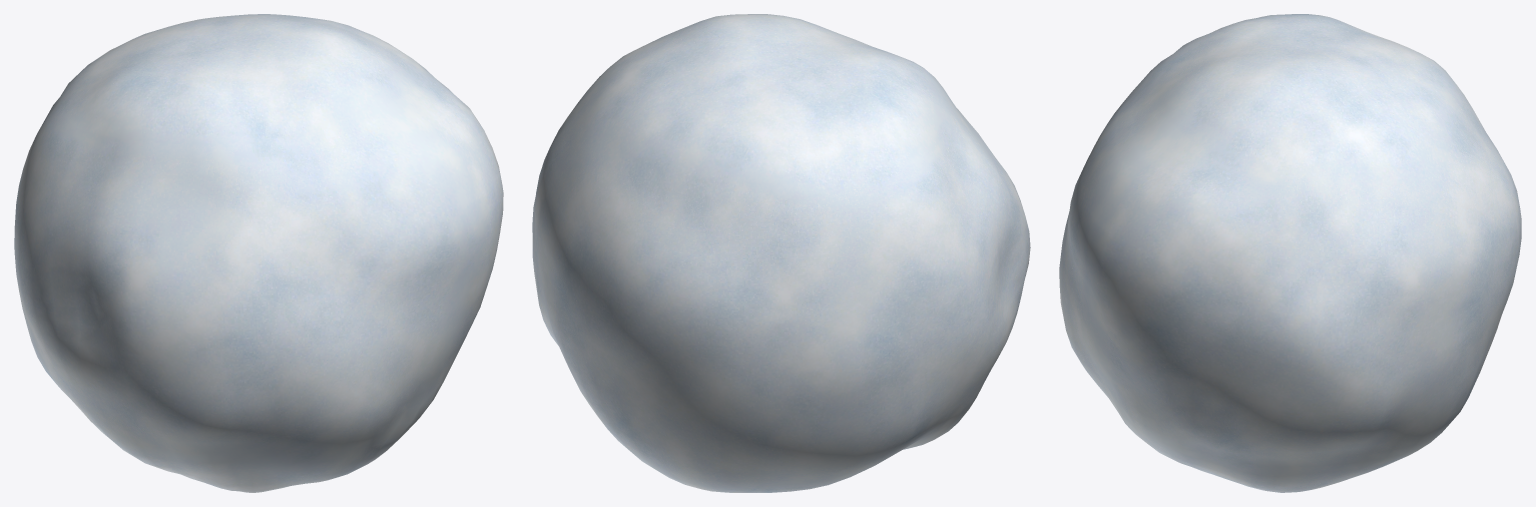
File: snowball.fbx
3 renders of one model, left to right at view 1: azimuth 30°, elevation 25°; view 2: azimuth 150°, elevation 25°; view 3: azimuth 270°, elevation 25°, orthographic. The views are drawn at different scales.
Parts seen in each view (by area): view 1: node_id6; view 2: node_id6; view 3: node_id6.
Boxes of the visible parts, left/top/right/bottom form: node_id6: left=14, top=14, right=503, bottom=492; node_id6: left=532, top=14, right=1030, bottom=492; node_id6: left=1059, top=14, right=1521, bottom=492.
Size of the model in its own units: 0.512 by 0.4861 by 0.4844.
1 material, 1 textured.
